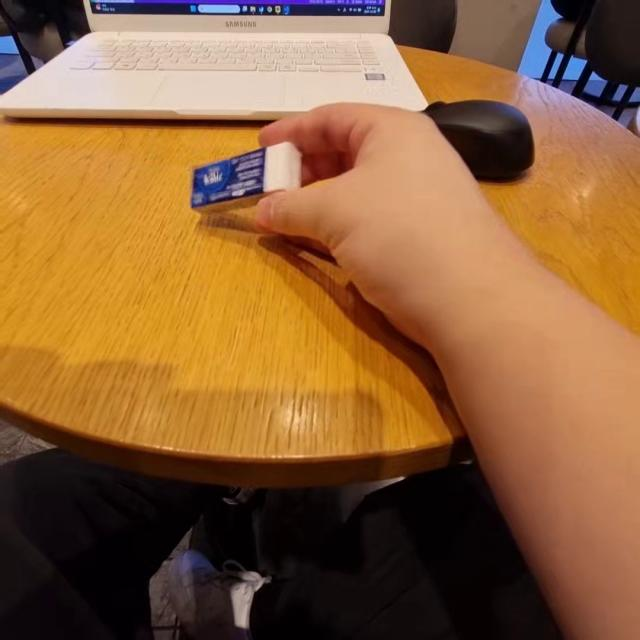grab_eraser: (178, 102, 470, 316)
mouse: (417, 67, 541, 184)
